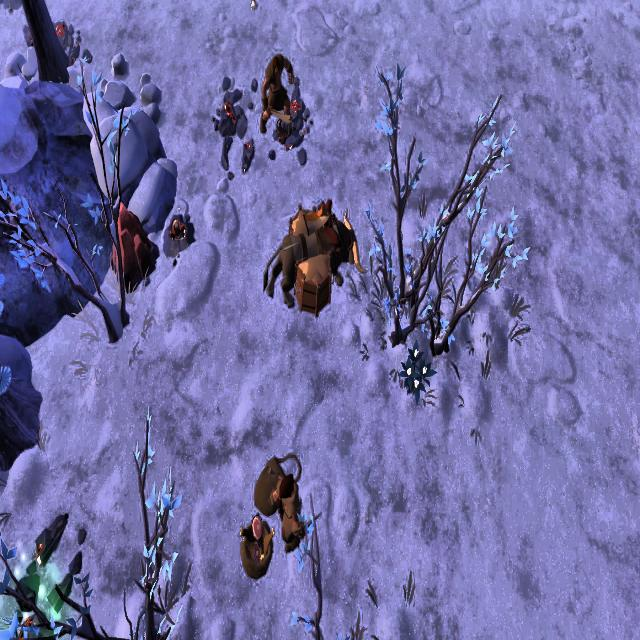enemy_factionKeeper: (259, 50, 296, 132)
fiber_t4: (397, 341, 437, 402)
rock_t5: (108, 199, 159, 289)
